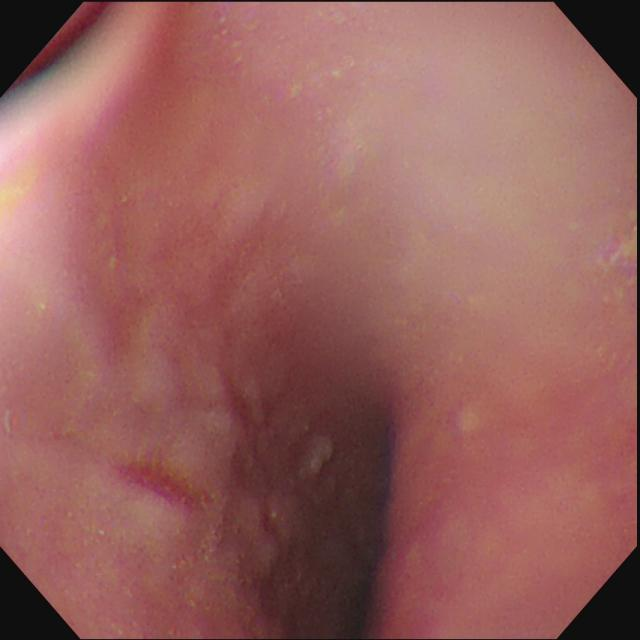C: (122, 453, 206, 518)
E: (274, 395, 420, 640)
J: (13, 278, 330, 633)
